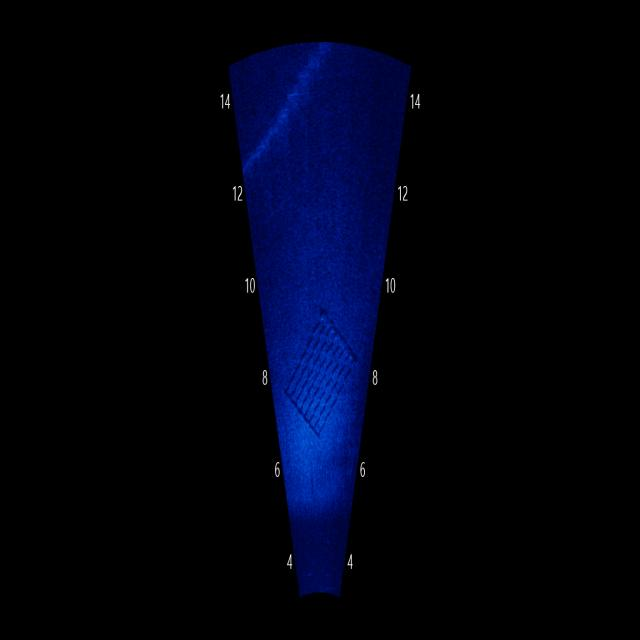square: (279, 294, 360, 447)
